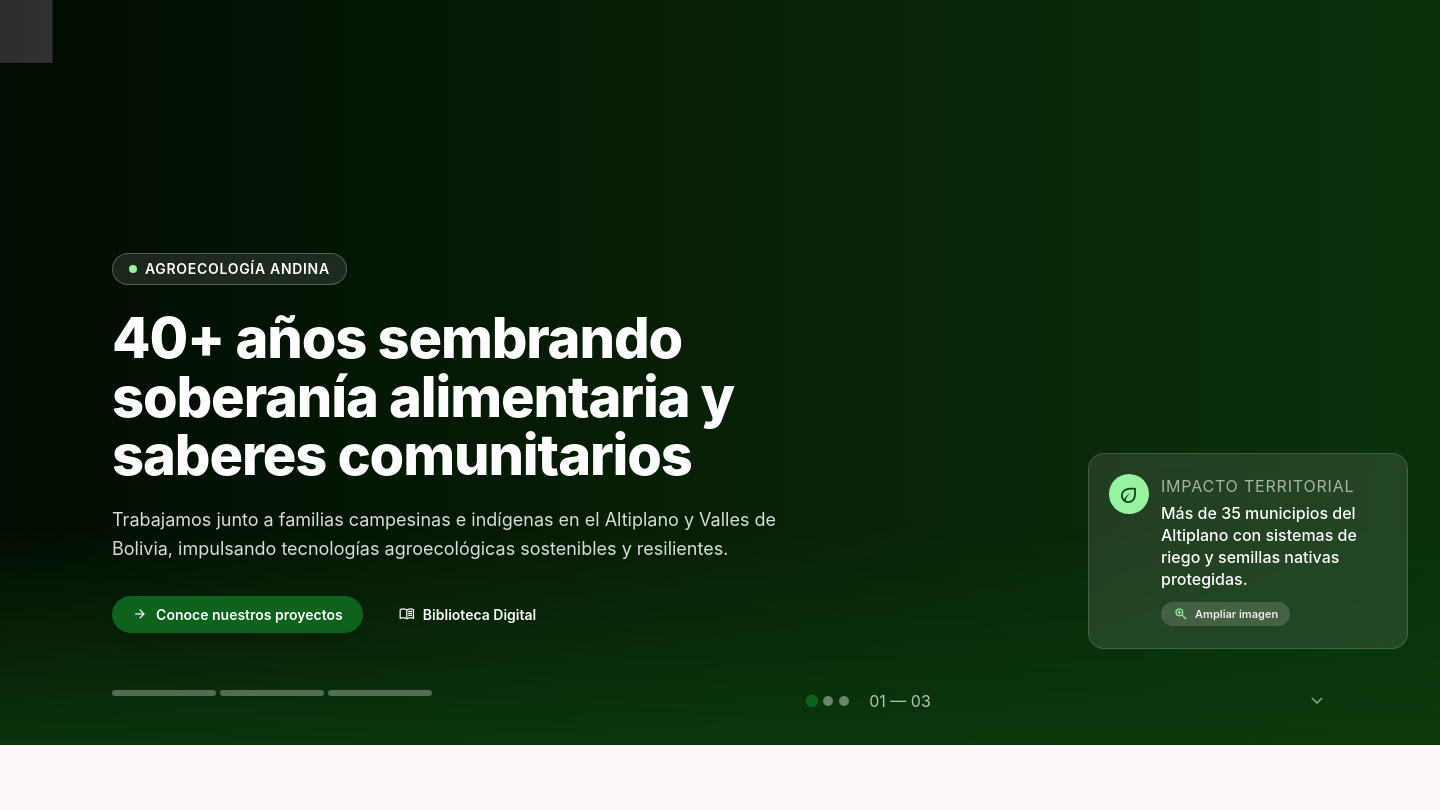
HeroSlider › cambia de slide al hacer click en el indicador
This screenshot has width=1440, height=810.
// Click en el dot (último elemento con ese label, fuera de la barra md).
What coordinates should you click on to do the following:
click the button named "Ir al slide 2" next to "01"
I would click on:
 (828, 701)
Its box is [823, 696, 833, 706].
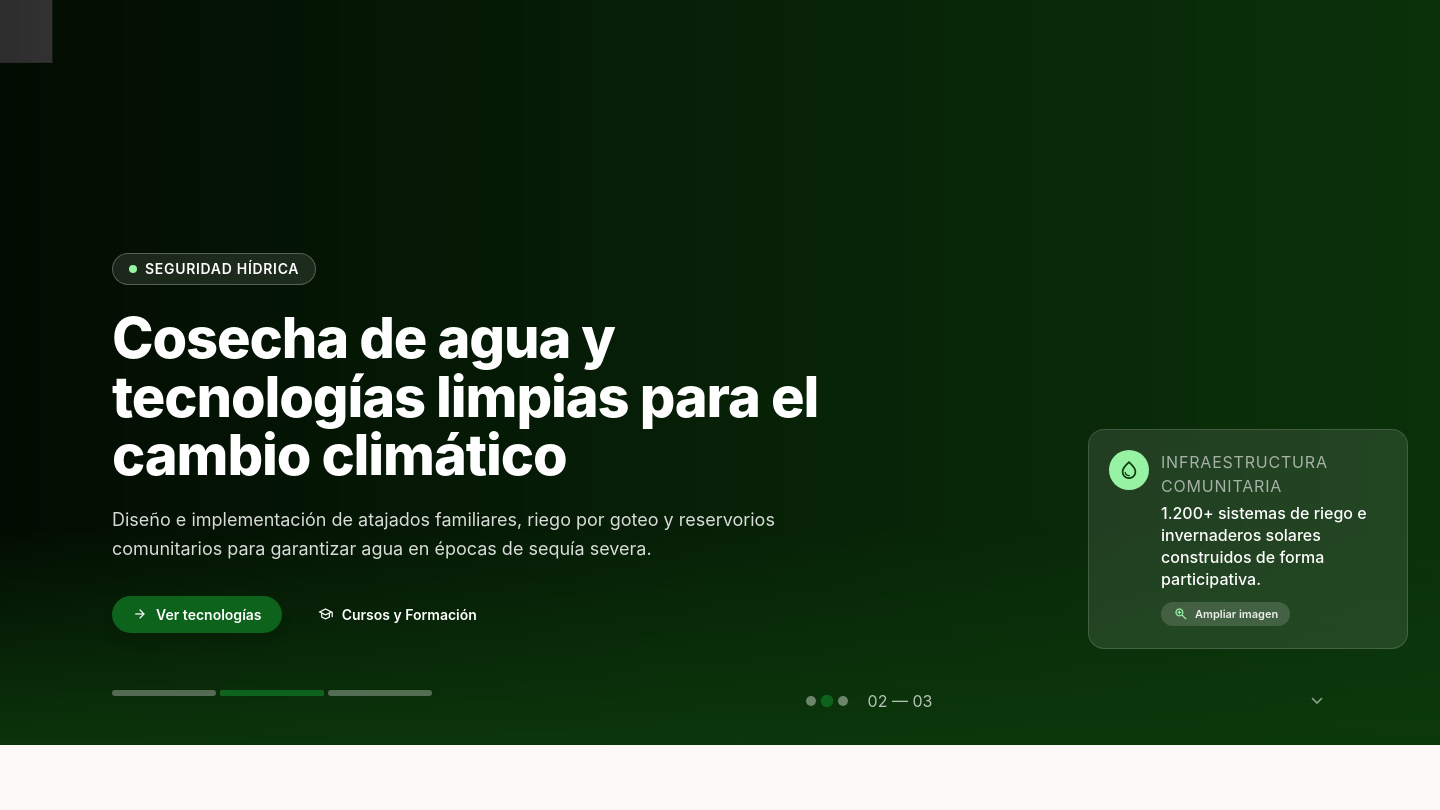
Expected: the text "02 — 03" is shown, [868, 689, 932, 713]
